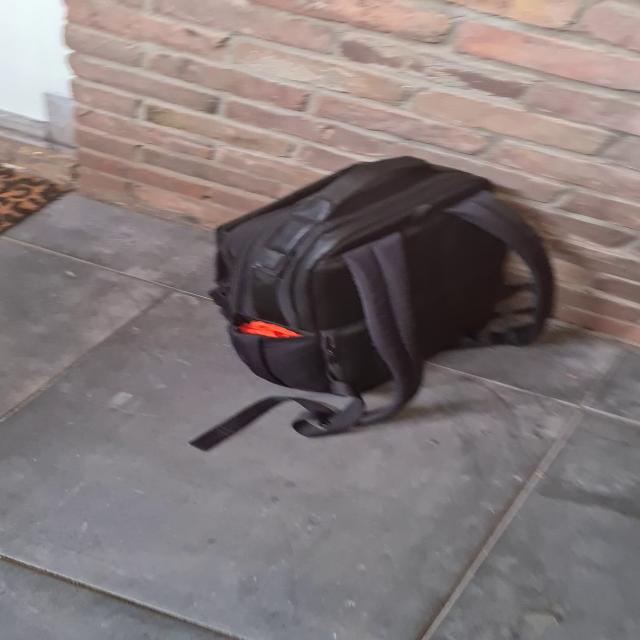backpack: (199, 144, 563, 440)
